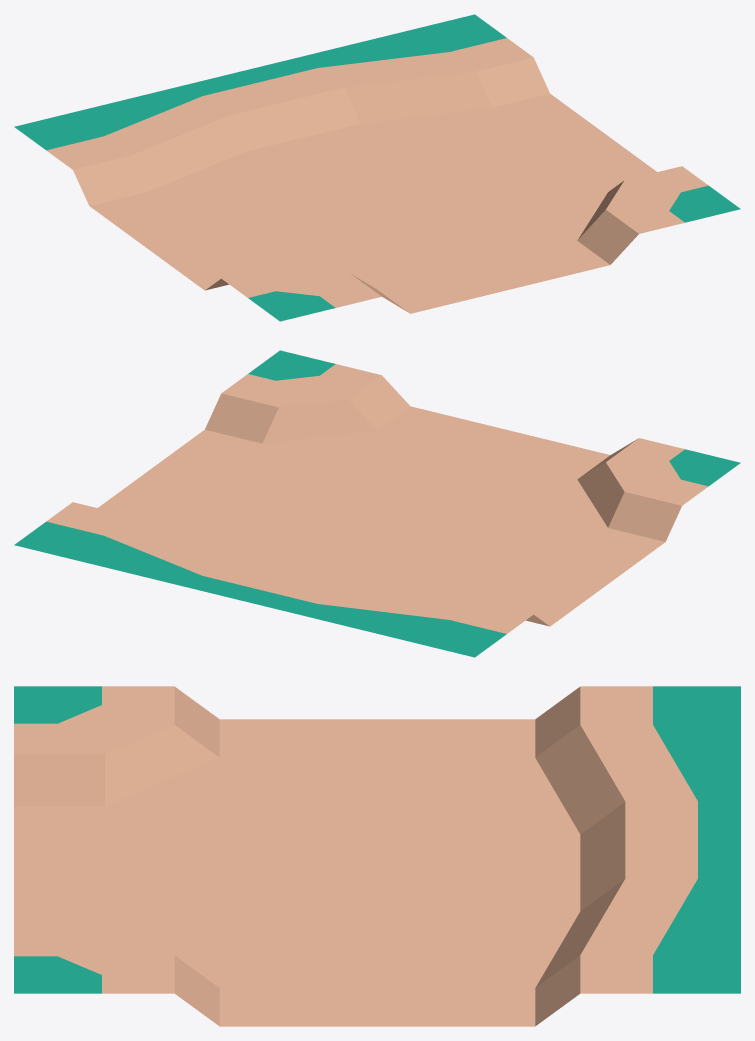
File: ground_pathSplit.glb
The picture shows the model from 3 angles, top to bottom: view 1: azimuth 30°, elevation 25°; view 2: azimuth 150°, elevation 25°; view 3: azimuth 270°, elevation 25°; orthographic projection. The views are drawn at different scales.
Parts seen in each view (by area): view 1: ground_pathSplit; view 2: ground_pathSplit; view 3: ground_pathSplit.
Boxes of the visible parts, x1,y1,x2,y2 form: ground_pathSplit: (14,14,740,321); ground_pathSplit: (14,350,740,657); ground_pathSplit: (14,686,740,1026).
Bounding box in the file's own units: 1.16 × 0.0581 × 1.16.
